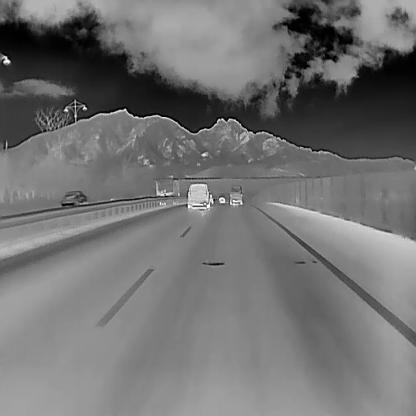bus: (153, 177, 181, 204)
car: (57, 188, 87, 210), (186, 182, 209, 208), (229, 182, 243, 206), (208, 192, 214, 206)
truck: (218, 194, 226, 206)
